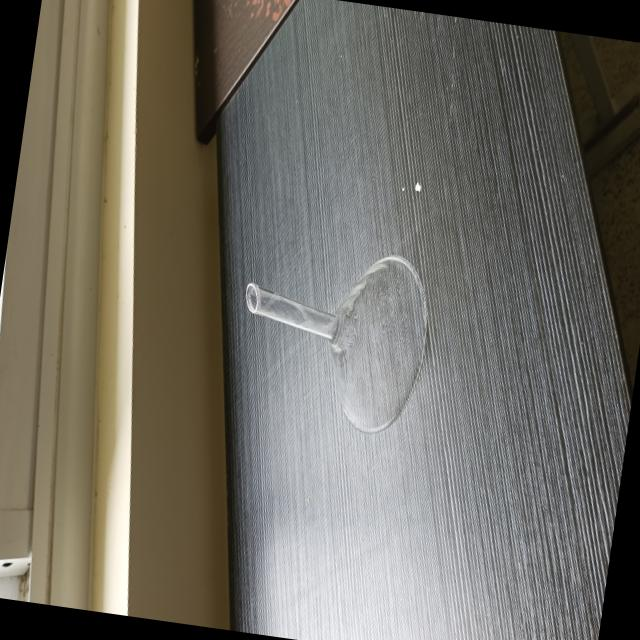funnel: (214, 192, 453, 466)
